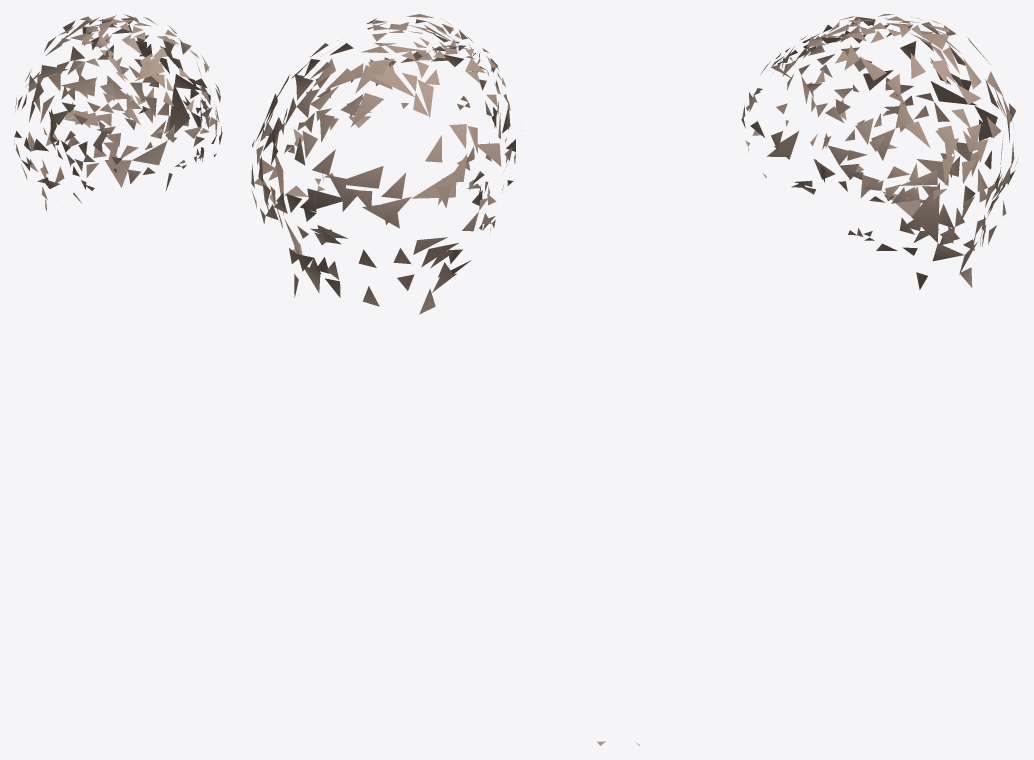
Rendered from female_hair_12_lod2.glb.
3 renders of one model, left to right at view 1: azimuth 30°, elevation 25°; view 2: azimuth 150°, elevation 25°; view 3: azimuth 270°, elevation 25°, orthographic. The views are drawn at different scales.
Visible parts, largest first — view 1: female-hair-12; view 2: female-hair-12; view 3: female-hair-12.
Part boxes in pixels (x1,y1,x2,y2): female-hair-12: (14,14,222,211); female-hair-12: (251,14,605,745); female-hair-12: (635,14,1018,745).
Bounding box in the file's own units: 0.2036 × 0.6586 × 0.3036.
